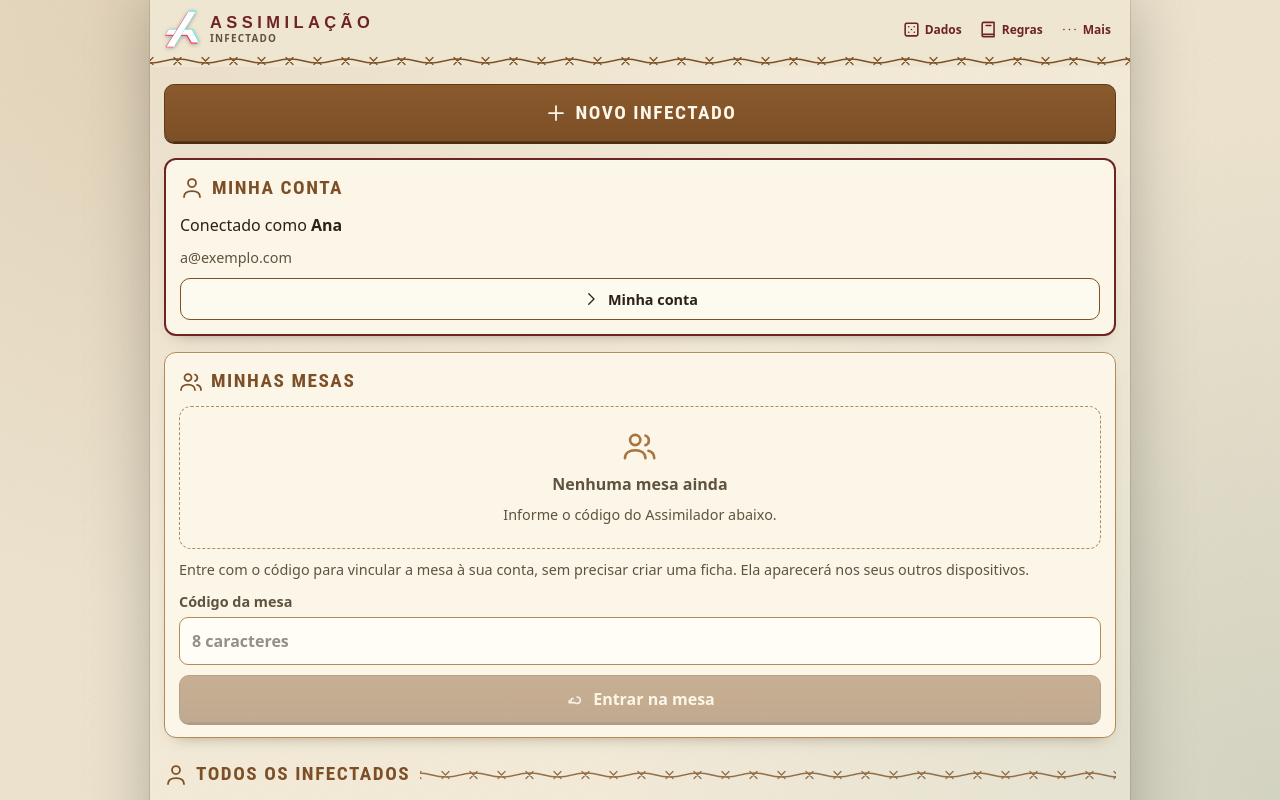
Test: Bug 2 — mesas vinculadas à conta, sem ficha › entrar com o código estando logado grava o vínculo no servidor e mostra em "Minhas mesas"
Expected: the text "Nenhuma mesa ainda" is shown, [552, 472, 728, 496]
Type "abcd2345" into the field labelled "Código da mesa" at coordinates (640, 641), box [179, 617, 1101, 665]
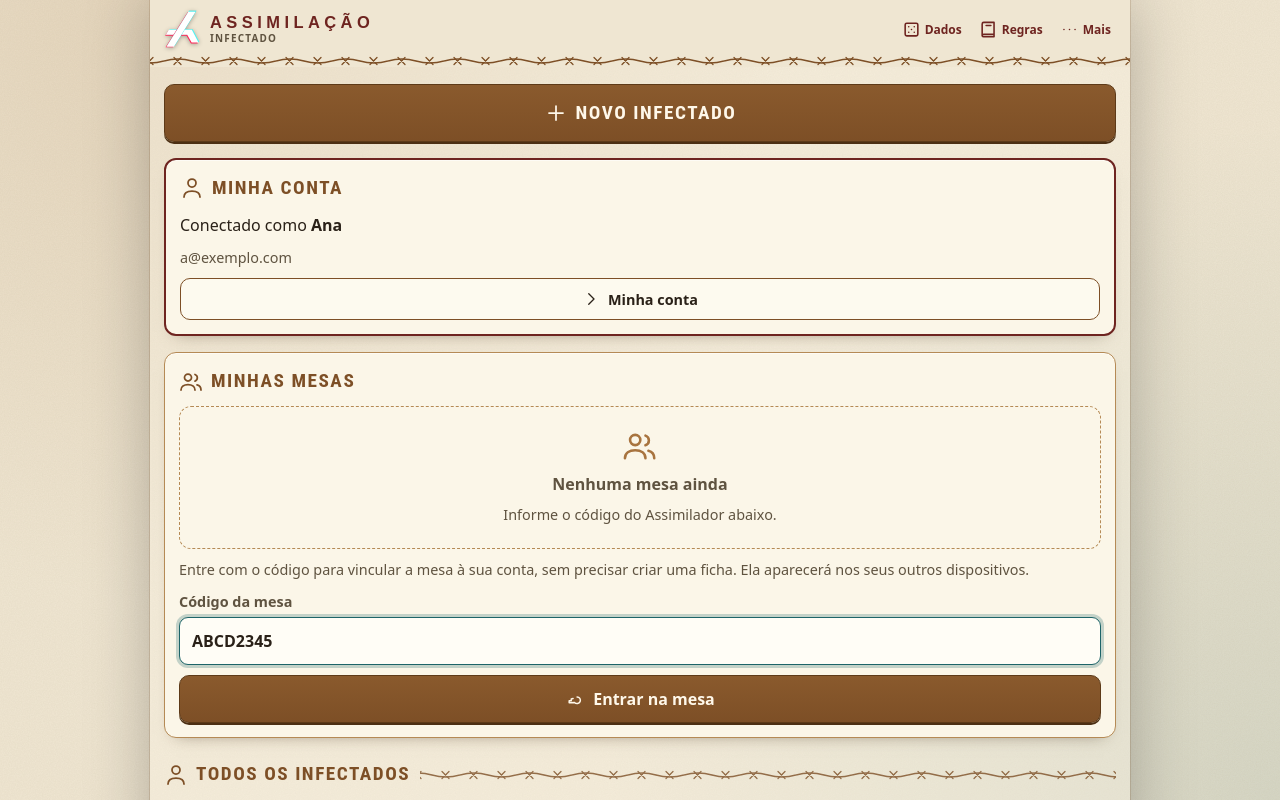
Click the button "Entrar na mesa" at coordinates (640, 699), box [179, 675, 1101, 723]
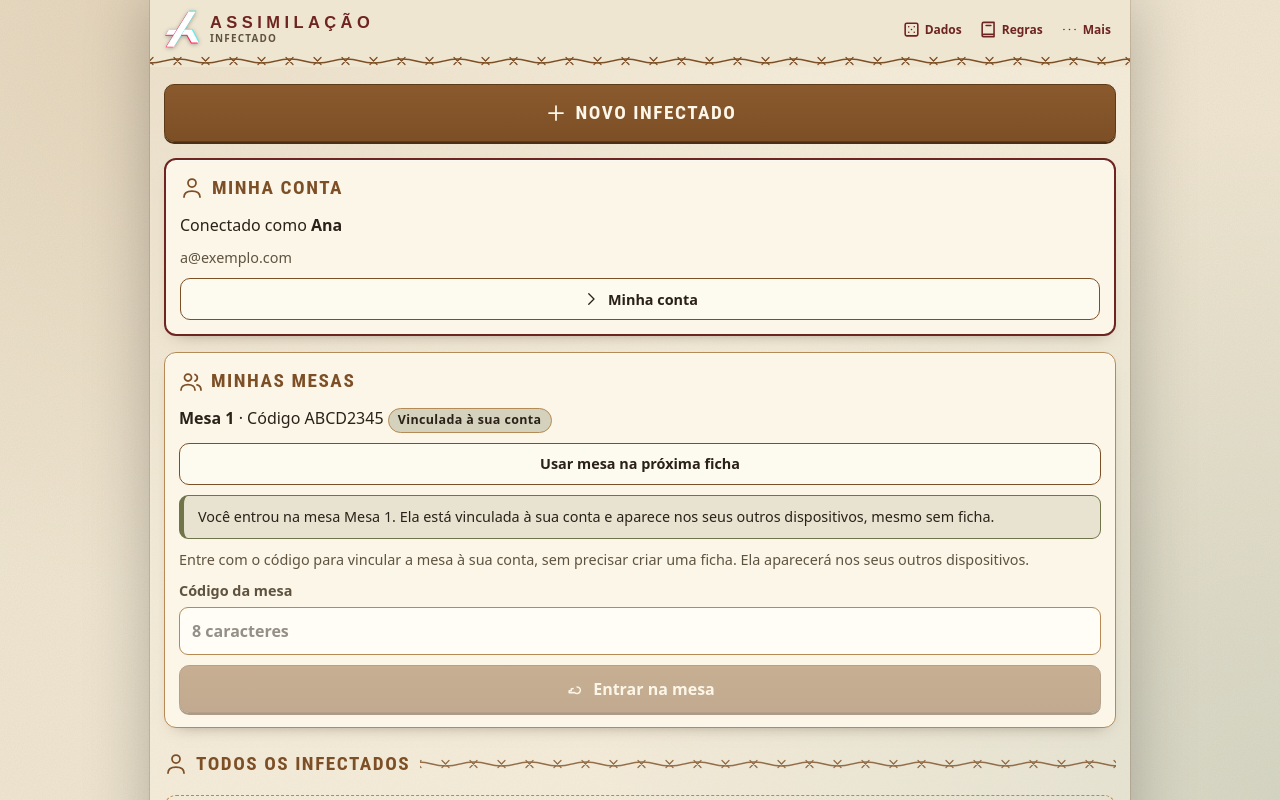
Result: the text "Vinculada à sua conta" is shown at [388, 408, 552, 433]
Result: the text "Mesa 1" is shown at [179, 407, 234, 429]
